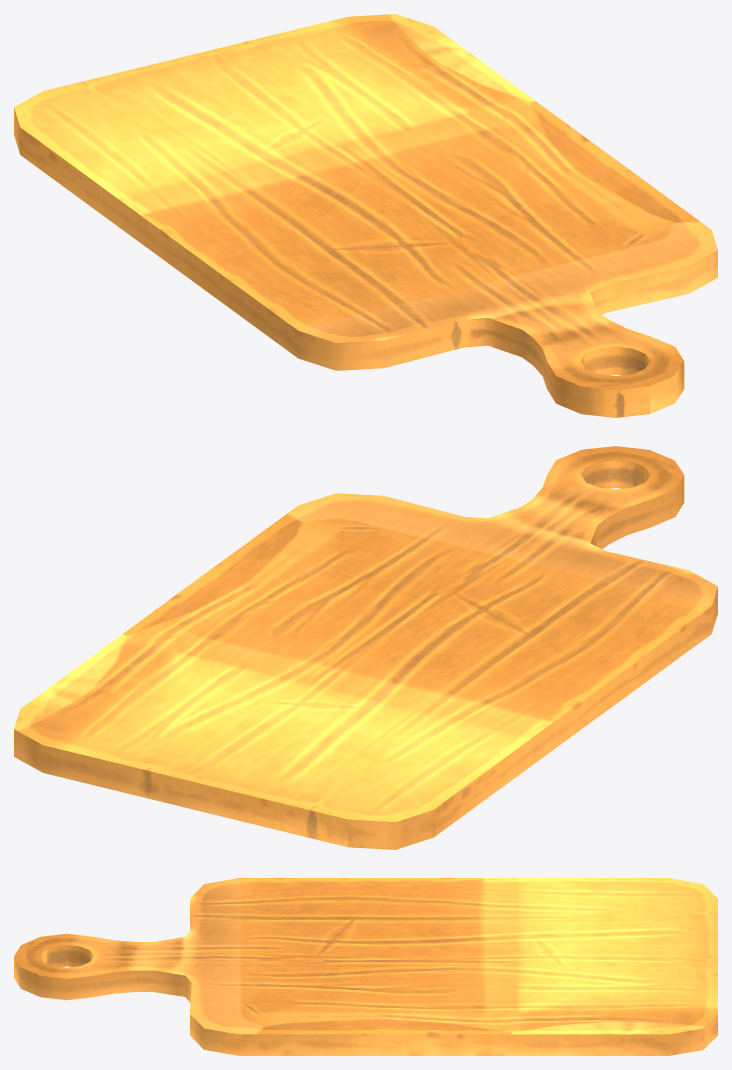
File: SM_CuttingBoard.fbx
The picture shows the model from 3 angles, top to bottom: view 1: azimuth 30°, elevation 25°; view 2: azimuth 150°, elevation 25°; view 3: azimuth 270°, elevation 25°; orthographic projection. The views are drawn at different scales.
Visible parts, largest first — view 1: SM_CuttingBoard_LOD0; view 2: SM_CuttingBoard_LOD0; view 3: SM_CuttingBoard_LOD0.
Part boxes in pixels (box(x1,y1,x2,y2)): SM_CuttingBoard_LOD0: box(14, 14, 717, 417); SM_CuttingBoard_LOD0: box(14, 446, 717, 849); SM_CuttingBoard_LOD0: box(14, 878, 717, 1055).
Bounding box in the file's own units: 26.47 × 50.37 × 1.69.
